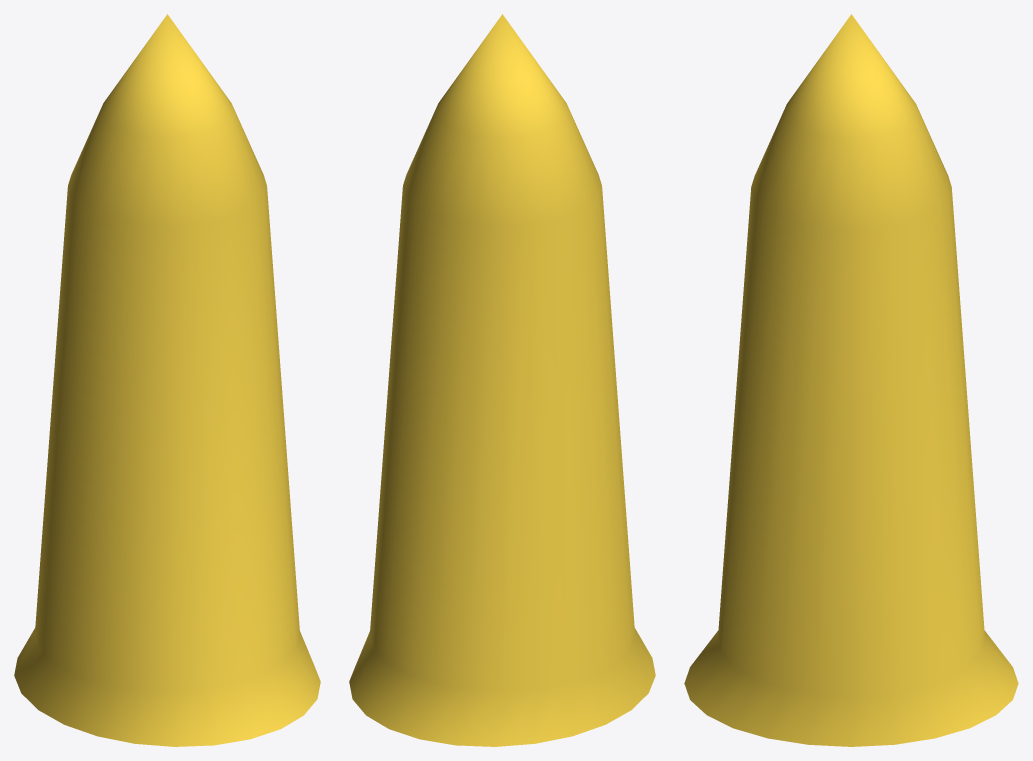
File: Bullet.FBX
3 views of the same model, side by side, from view 1: azimuth 30°, elevation 25°; view 2: azimuth 150°, elevation 25°; view 3: azimuth 270°, elevation 25° (orthographic).
Parts seen in each view (by area): view 1: Cone001; view 2: Cone001; view 3: Cone001.
Boxes of the visible parts, x1,y1,x2,y2 form: Cone001: [14, 14, 320, 746]; Cone001: [349, 14, 655, 746]; Cone001: [684, 14, 1018, 746].
Size of the model in its own units: 35.95 by 88.4 by 40.
